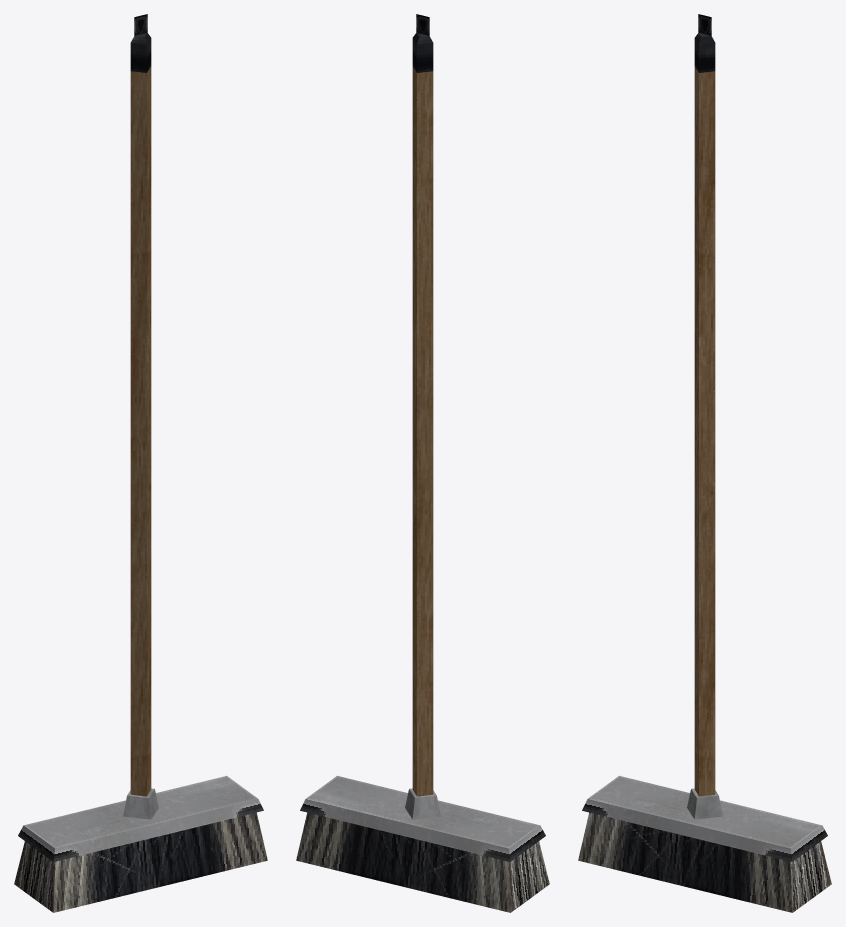
File: psx-broom.glb
3 views of the same model, side by side, from view 1: azimuth 30°, elevation 25°; view 2: azimuth 150°, elevation 25°; view 3: azimuth 330°, elevation 25° (orthographic).
Parts seen in each view (by area): view 1: Broom; view 2: Broom; view 3: Broom.
Boxes of the visible parts, x1=… form: Broom: x1=14, y1=14, x2=267, y2=912; Broom: x1=296, y1=14, x2=549, y2=912; Broom: x1=578, y1=14, x2=831, y2=912.
Bounding box in the file's own units: 0.3815 × 1.45 × 0.121.
2 materials, 2 textured.
